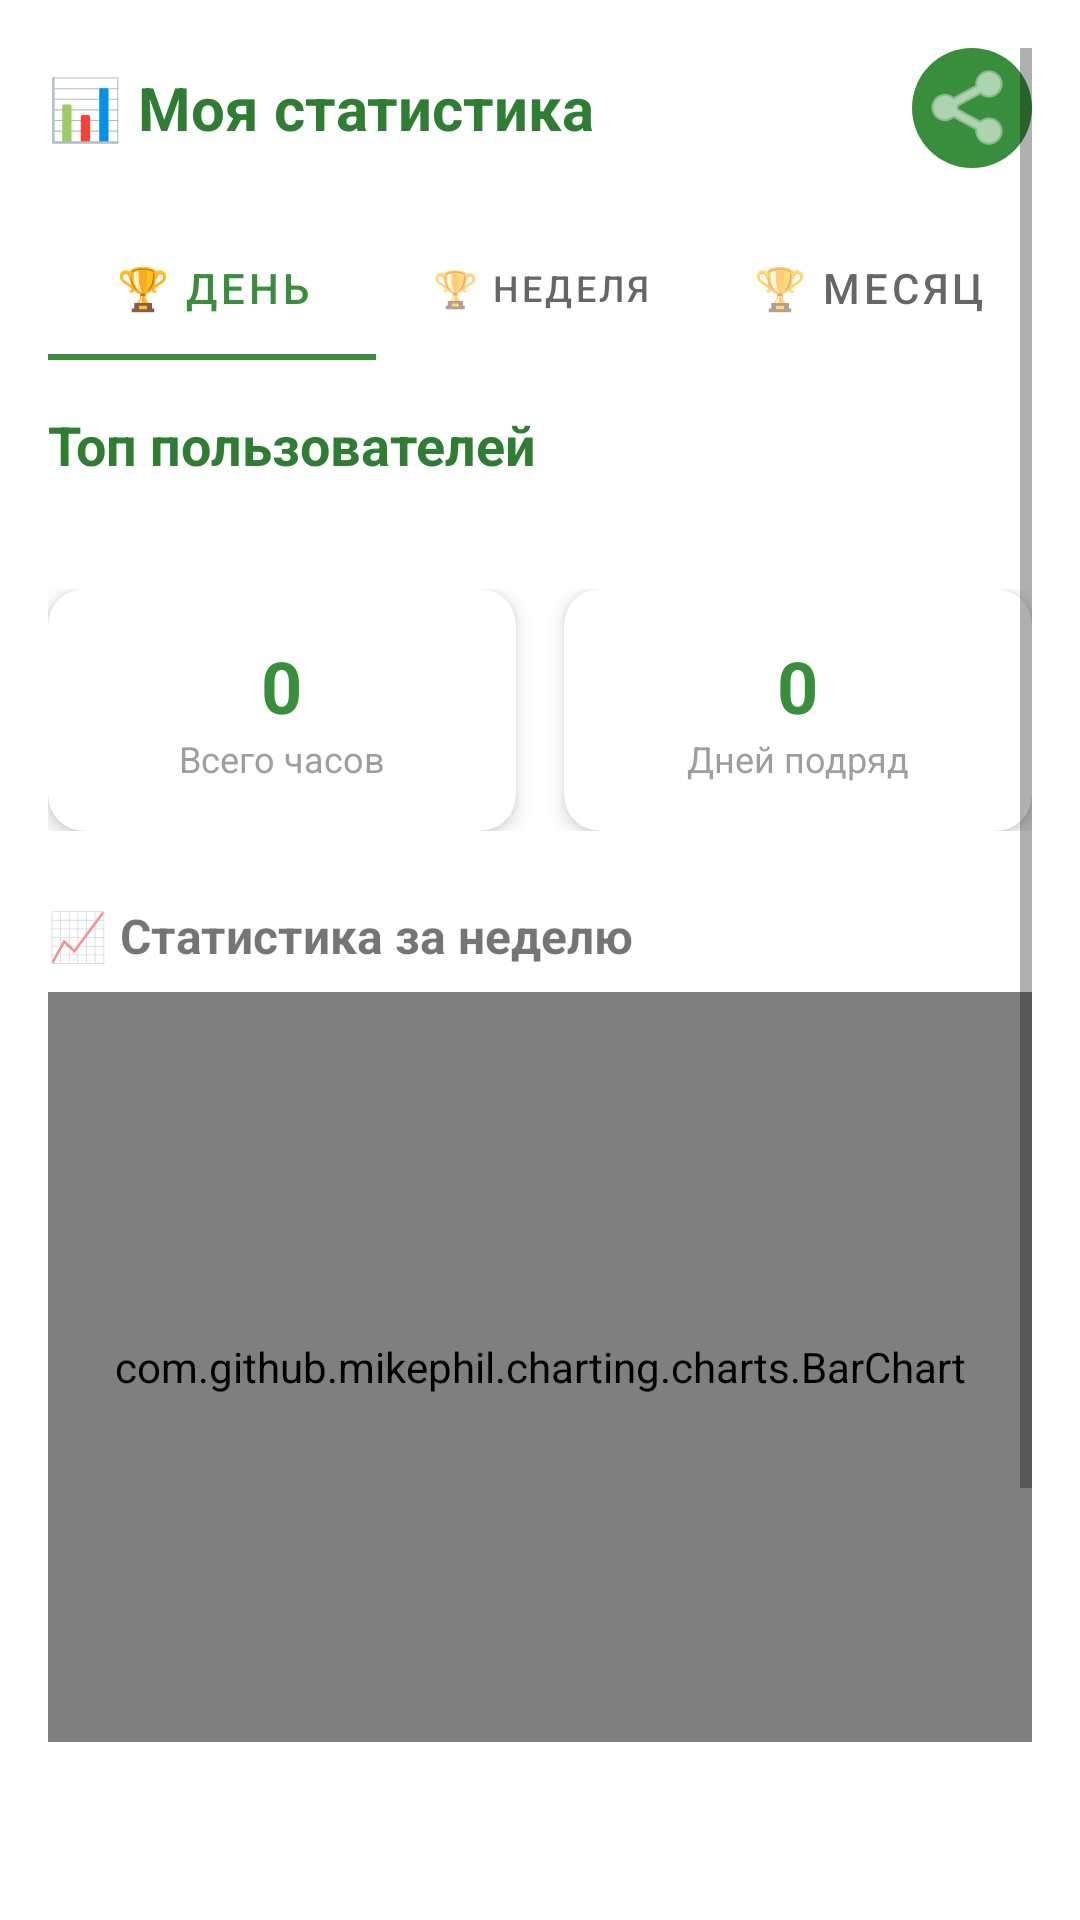

Where to tap for icons on this 1080x1920 app screen, as (x,y):
share: (972,108)
